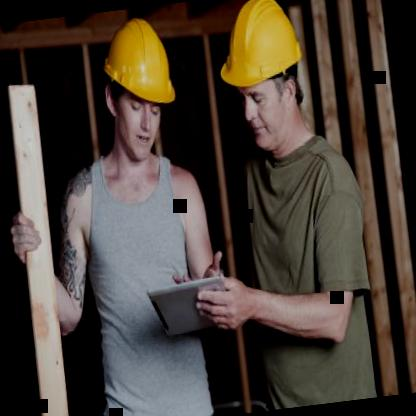helmet: (205, 0, 326, 168), (86, 3, 194, 174)
